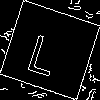L: (25, 25, 64, 77)
